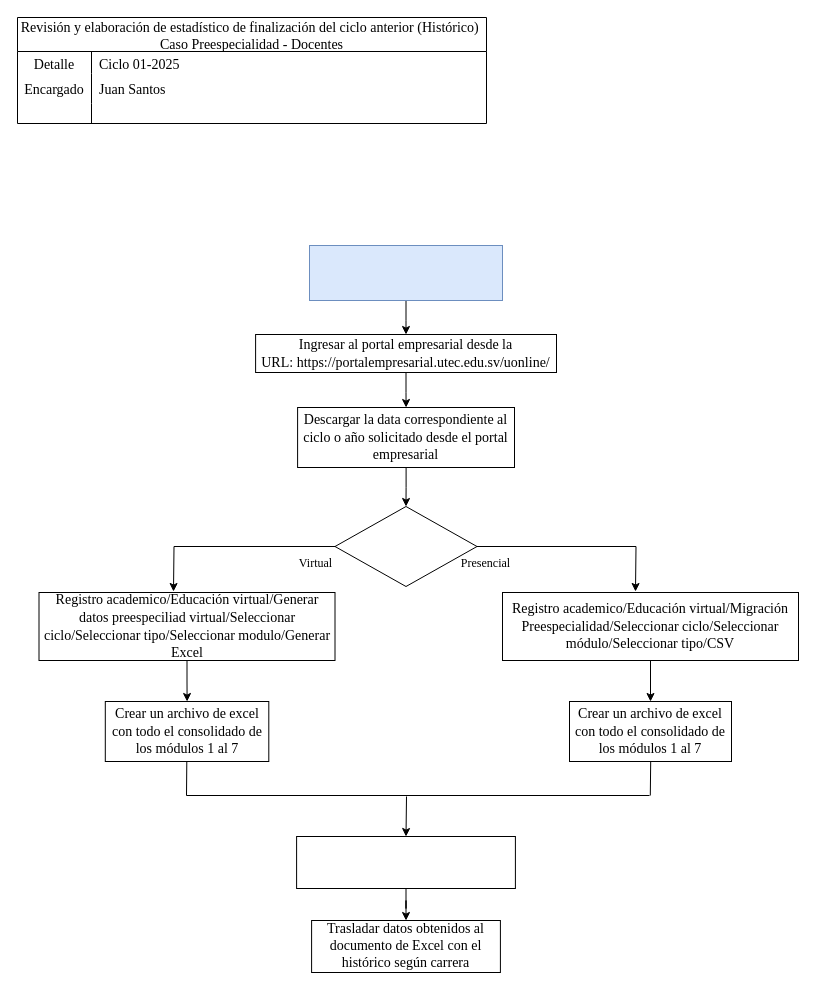
Some shapes in this 816 by 990 pixel diagram are drawn without their labels. Here are the shapes that lost their labels. From the top down, the box of each, then its label:
(308, 244, 502, 300): Revisión y elaboración de estadístico de finalización del ciclo anterior
(334, 506, 477, 586): Virtual o Presencial?
(296, 836, 515, 888): Contabilizar datos únicos de ambos consolidados
